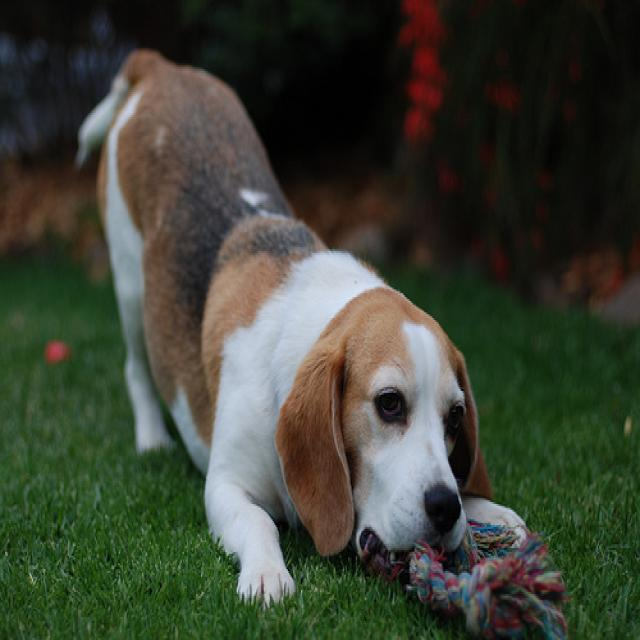dog-beagle: (64, 44, 500, 613)
